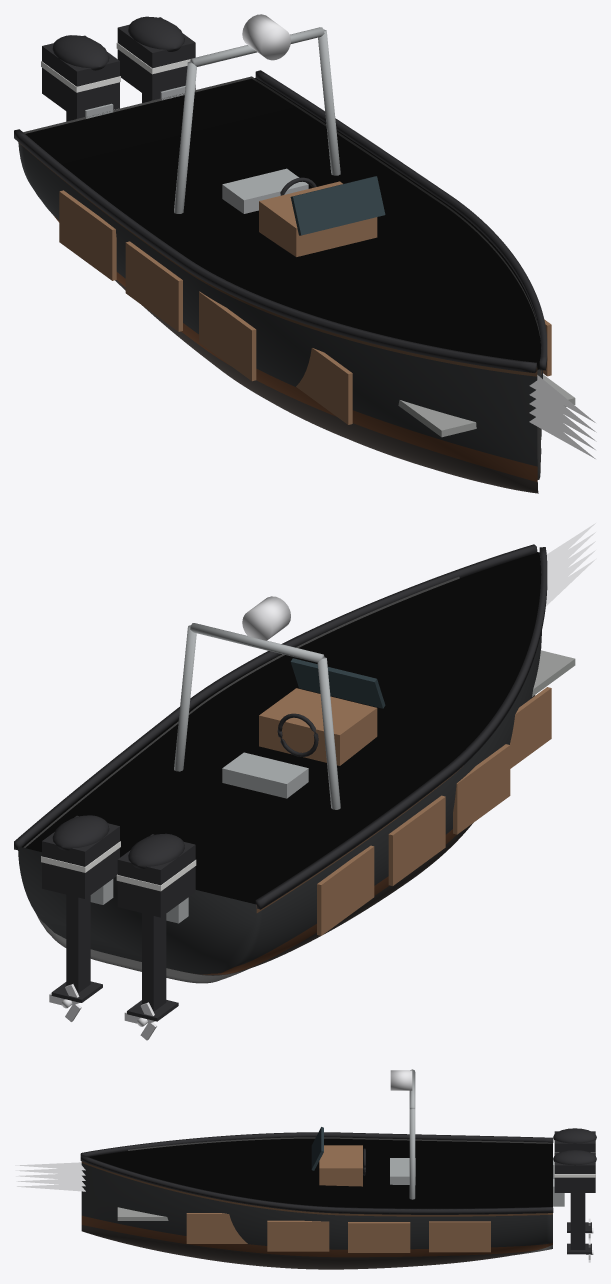
File: raider.glb
The picture shows the model from 3 angles, top to bottom: view 1: azimuth 30°, elevation 25°; view 2: azimuth 150°, elevation 25°; view 3: azimuth 270°, elevation 25°; orthographic projection. The views are drawn at different scales.
Visible parts, largest first — view 1: WaterMask, Hull, Rubrail.001, Rubrail, Console, Windscreen, Cowling.001, Plate.005, Plate.004, Plate.006, Cowling, Plate.007 (+9 smaller); view 2: WaterMask, Hull, Console, Rubrail, Rubrail.001, Cowling.001, Cowling, Plate.005, Plate.004, Plate.006, LeanPost, InnerShell (+11 smaller); view 3: WaterMask, Hull, Rubrail, Rubrail.001, Plate.002, Plate, Plate.001, Console, Plate.003, Cowling, Leg, InnerShell (+13 smaller).
Part boxes in pixels (<box>): WaterMask: <box>25,78,540,369</box>; Hull: <box>18,142,542,493</box>; Rubrail.001: <box>14,129,537,372</box>; Rubrail: <box>255,70,547,370</box>; Console: <box>259,181,377,256</box>; Windscreen: <box>290,176,385,235</box>; Cowling.001: <box>42,35,119,118</box>; Plate.005: <box>125,241,182,331</box>; Plate.004: <box>59,190,116,280</box>; Plate.006: <box>199,291,256,381</box>; Cowling: <box>117,17,195,100</box>; Plate.007: <box>296,348,352,424</box>; WaterMask: <box>22,552,541,904</box>; Hull: <box>18,631,541,975</box>; Console: <box>259,688,377,765</box>; Rubrail: <box>14,544,537,850</box>; Rubrail.001: <box>255,547,547,909</box>; Cowling.001: <box>117,834,195,917</box>; Cowling: <box>42,815,119,898</box>; Plate.005: <box>388,795,445,885</box>; Plate.004: <box>317,845,374,935</box>; Plate.006: <box>453,744,510,834</box>; LeanPost: <box>222,752,308,798</box>; InnerShell: <box>23,576,459,983</box>; WaterMask: <box>88,1138,552,1208</box>; Hull: <box>81,1161,552,1269</box>; Rubrail: <box>80,1155,553,1214</box>; Rubrail.001: <box>80,1132,553,1156</box>; Plate.002: <box>267,1220,329,1251</box>; Plate: <box>429,1221,490,1252</box>; Plate.001: <box>348,1222,410,1252</box>; Console: <box>319,1145,362,1186</box>; Plate.003: <box>186,1213,247,1243</box>; Cowling: <box>554,1153,595,1192</box>; Leg: <box>570,1193,585,1249</box>; InnerShell: <box>128,1137,552,1255</box>.
Bounding box in the file's own units: 2.48 × 2.73 × 7.97.
